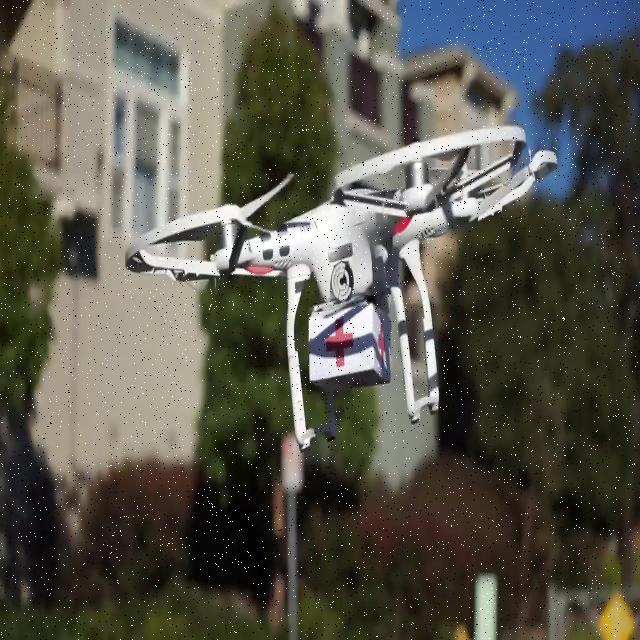UAV: (124, 125, 558, 452)
